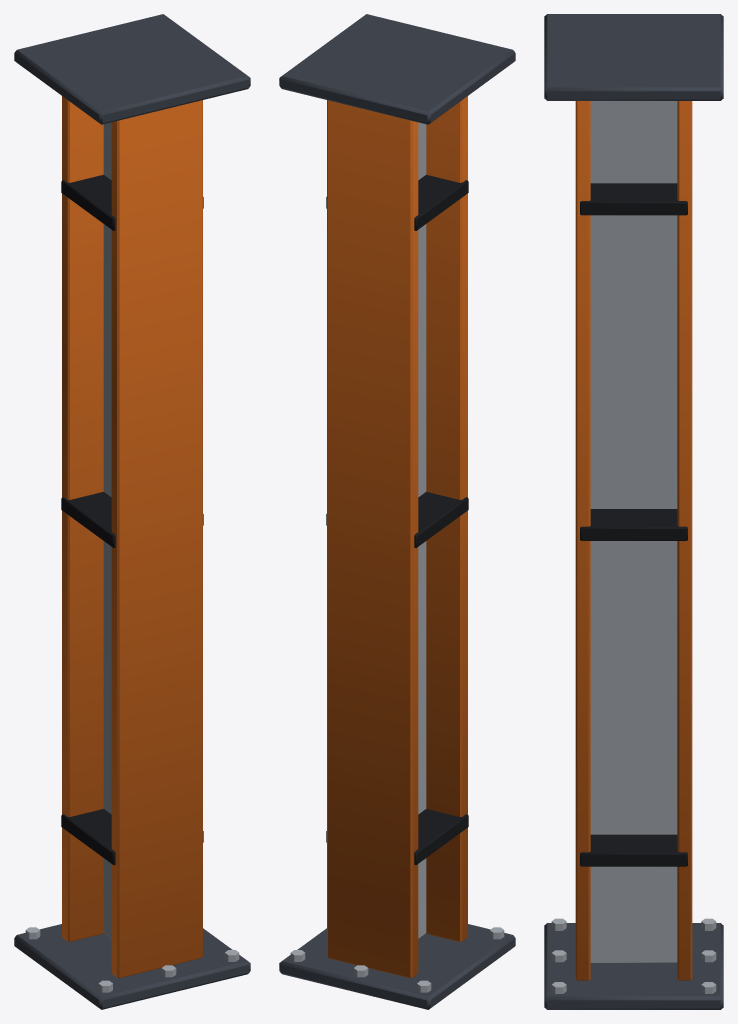
The model's file is pillar_h_beam.glb.
The picture shows the model from 3 angles, left to right: view 1: azimuth 30°, elevation 25°; view 2: azimuth 150°, elevation 25°; view 3: azimuth 270°, elevation 25°; orthographic projection. The views are drawn at different scales.
Parts seen in each view (by area): view 1: pillar_h_beam; view 2: pillar_h_beam; view 3: pillar_h_beam.
Boxes of the visible parts, x1=… form: pillar_h_beam: x1=14, y1=14, x2=250, y2=1009; pillar_h_beam: x1=279, y1=14, x2=515, y2=1009; pillar_h_beam: x1=544, y1=14, x2=723, y2=1009.
Size of the model in its own units: 0.6 by 3.4 by 0.6.
